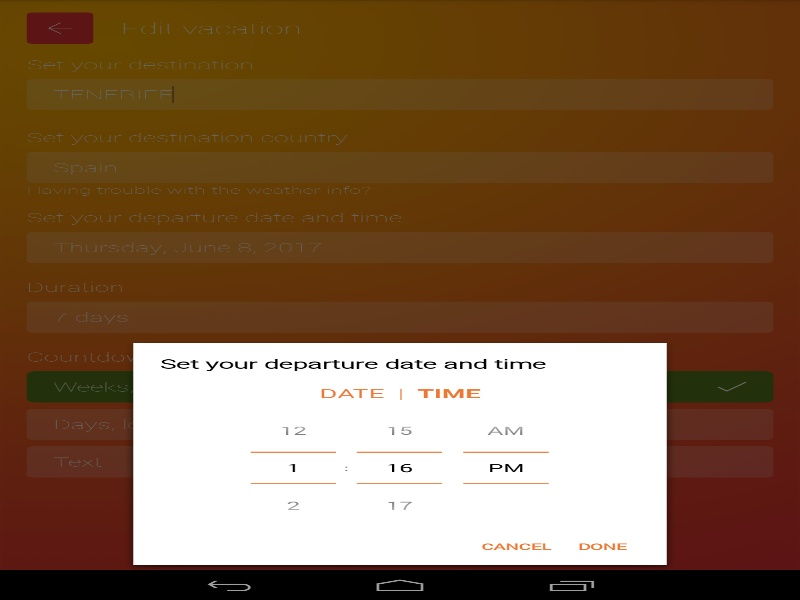Button: (250, 482, 336, 524), (356, 482, 442, 524), (250, 411, 336, 452), (356, 411, 442, 452), (463, 411, 548, 452)
Input: (250, 452, 336, 482), (356, 452, 442, 482), (463, 452, 548, 482)
